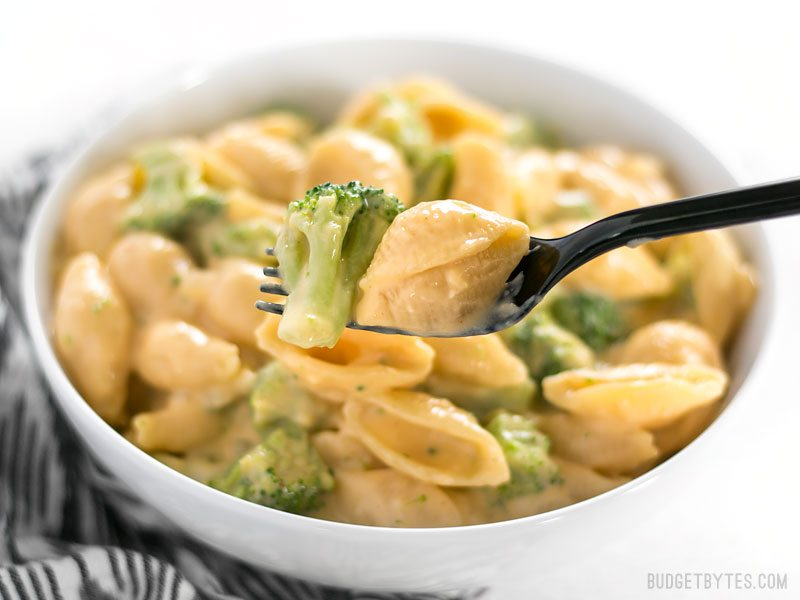macncheese: (34, 58, 756, 541)
